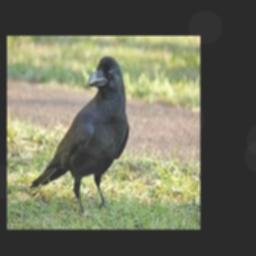Crow: (30, 55, 129, 214)
